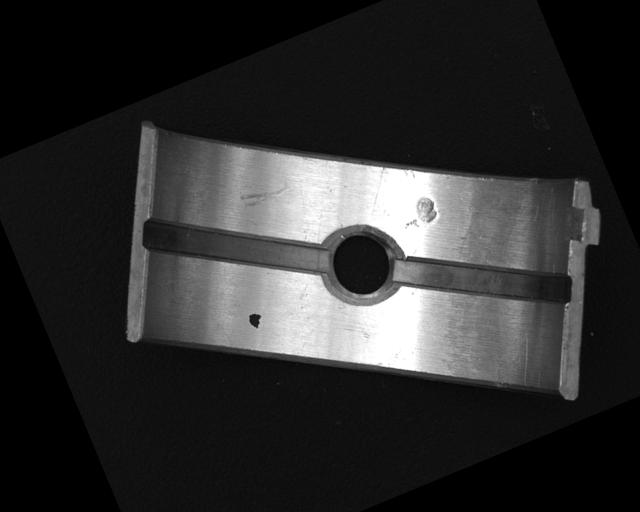blot: (246, 310, 265, 331)
bruise: (394, 192, 442, 234)
gap: (138, 163, 330, 331), (390, 205, 575, 358)
hole: (313, 213, 411, 315)
nick: (238, 175, 293, 212)
